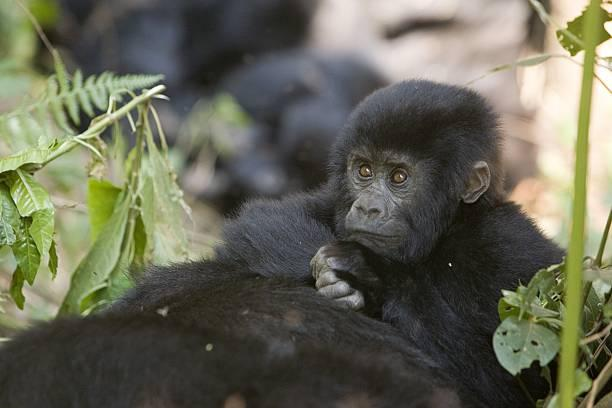goriile_montagne: (250, 52, 581, 356)
